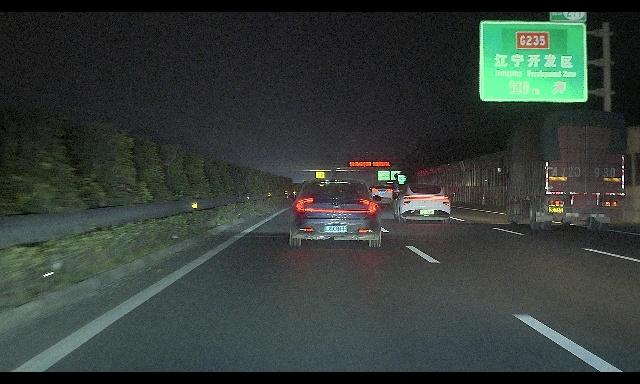car: (287, 177, 382, 248), (392, 183, 452, 224), (369, 184, 394, 206)
truck: (498, 108, 627, 231)
